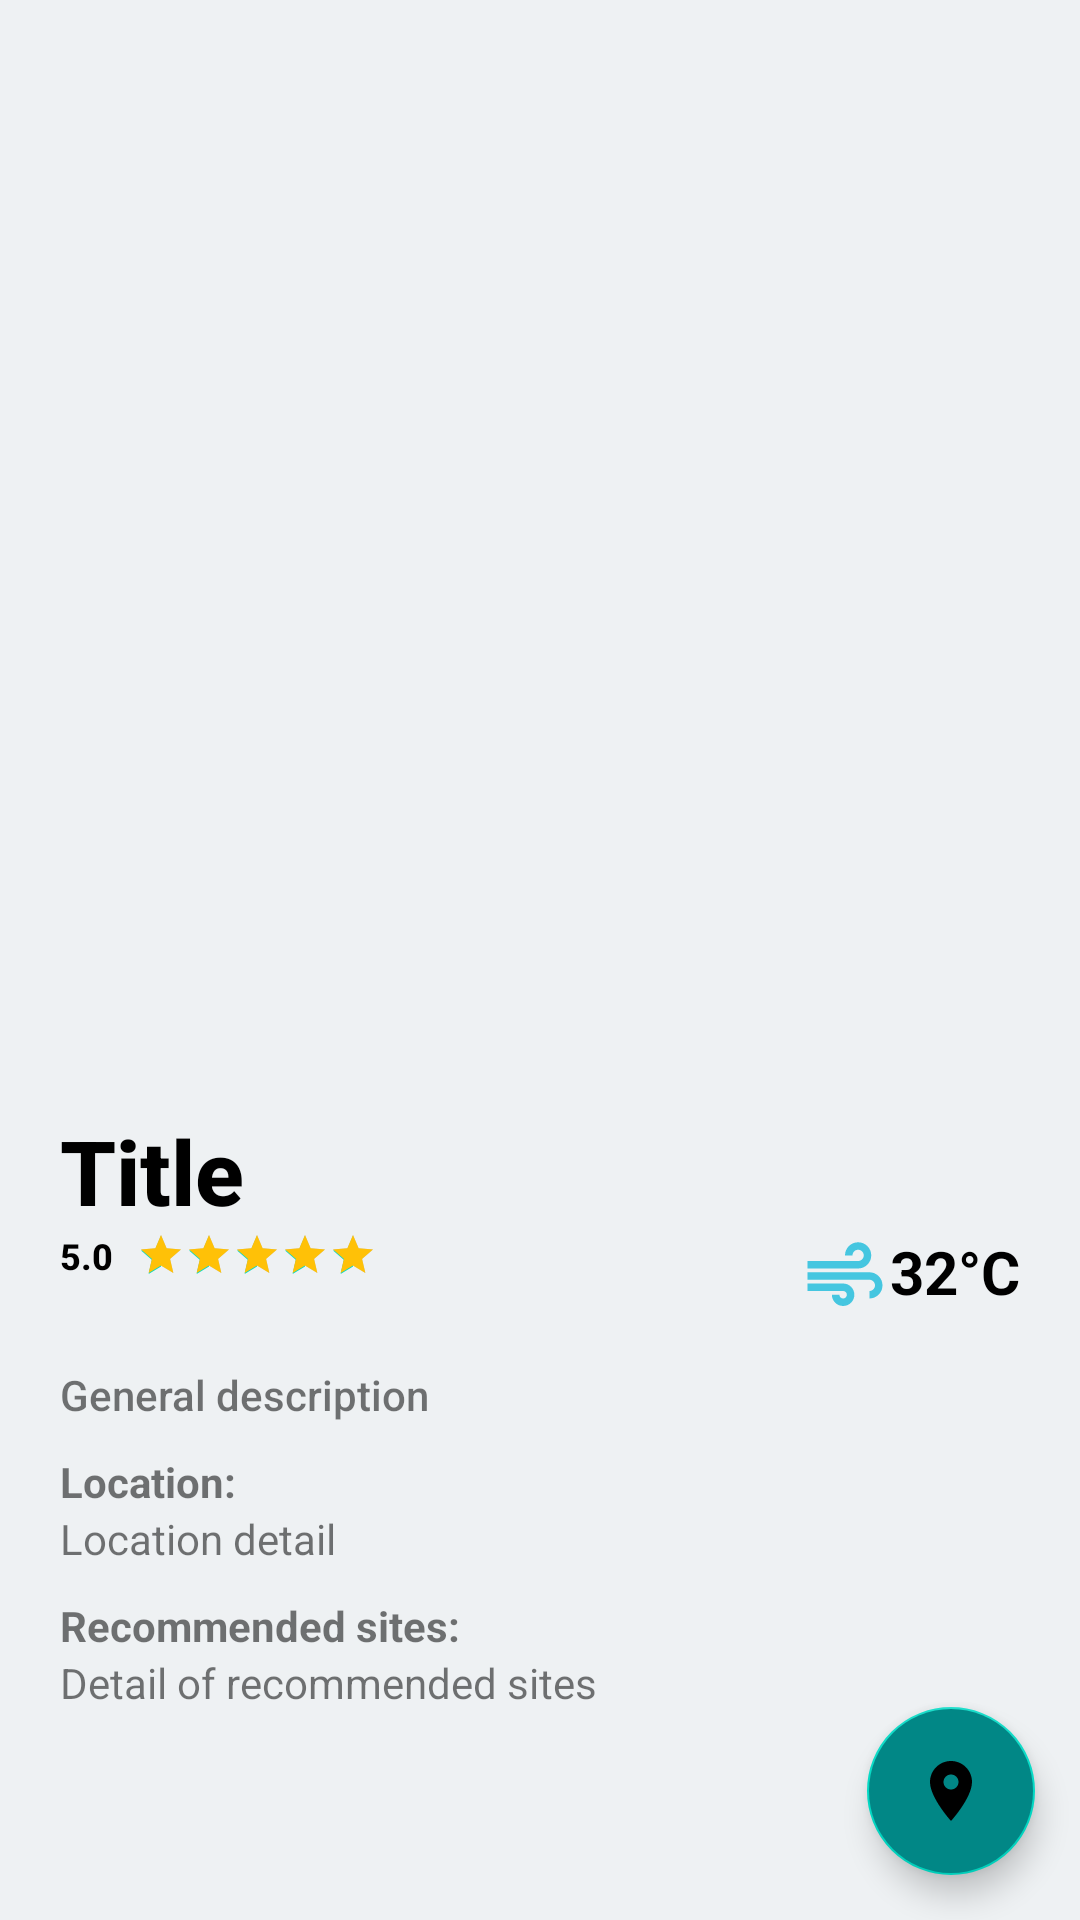

Icon click points for this 1080w x 1920h phone screenshot, format (x=x, y=y):
map: (x=951, y=1791)
